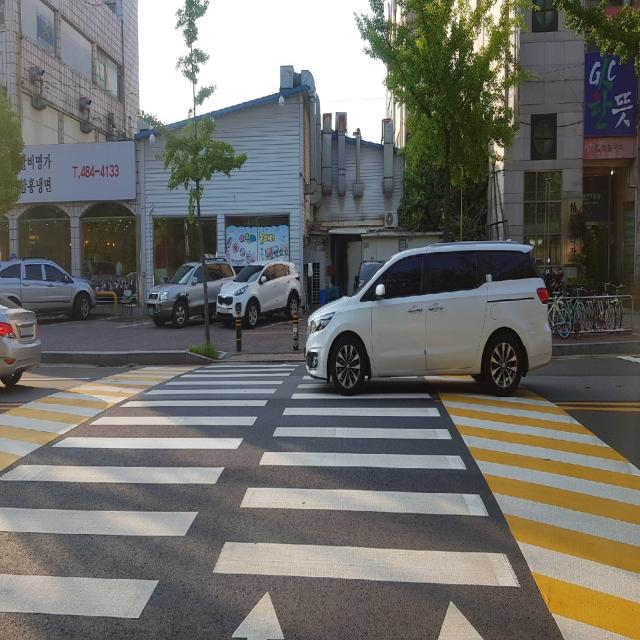횡단보도: (0, 357, 525, 639)
